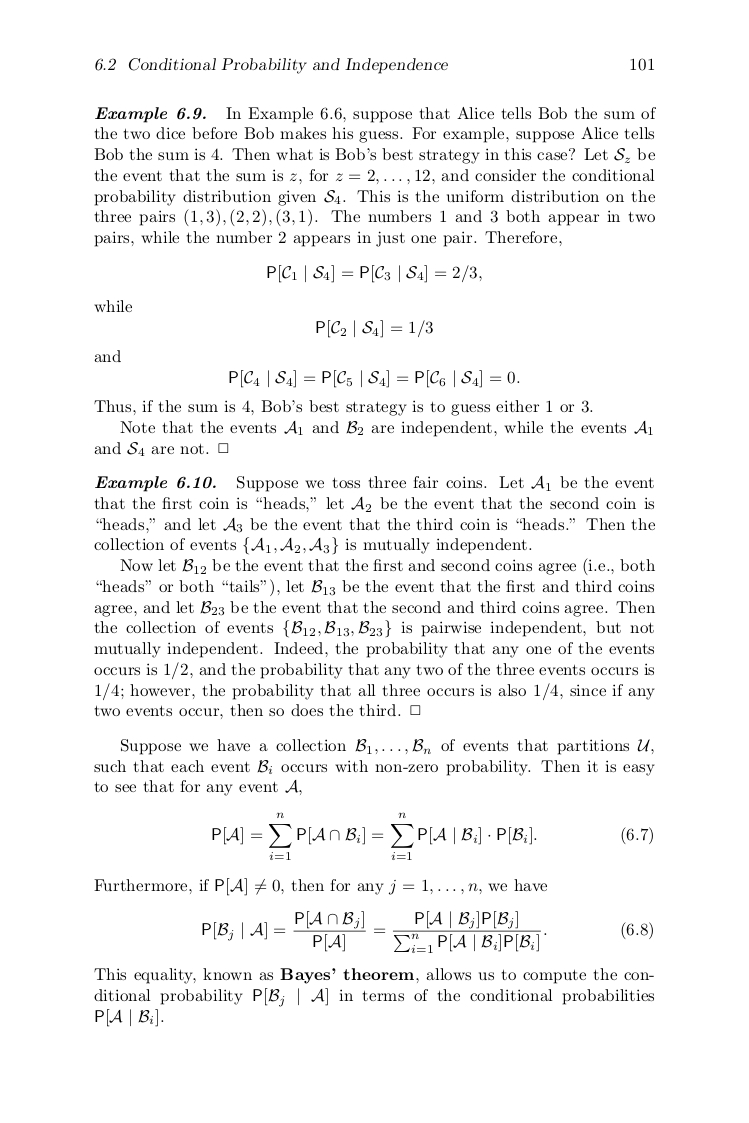formula: (212, 812, 652, 859), (202, 910, 652, 953), (229, 369, 519, 388), (267, 264, 481, 283), (316, 319, 432, 338)
